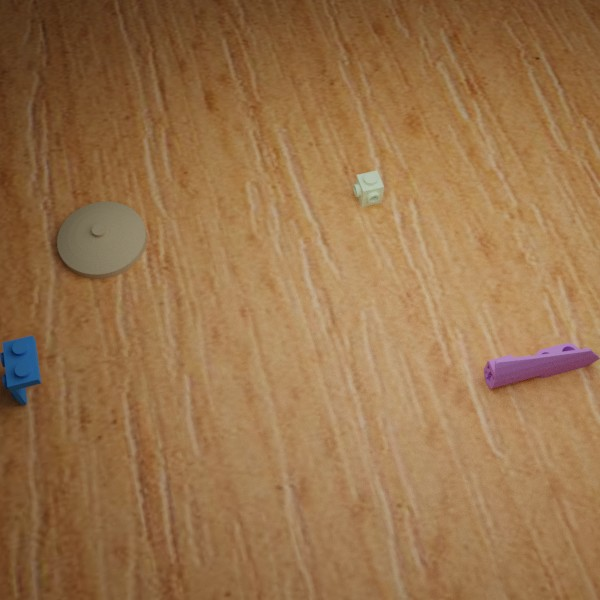lego: (57, 201, 147, 279), (483, 343, 600, 388), (0, 335, 41, 405), (353, 170, 384, 207)
